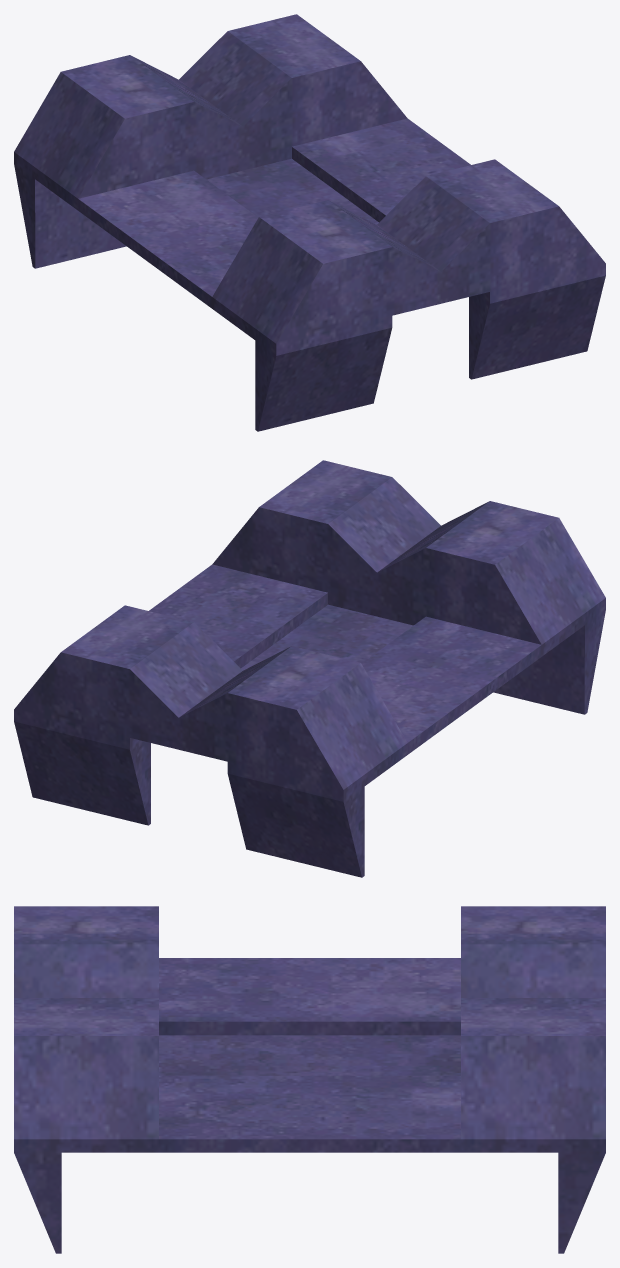
File: containercrane_02.obj
3 views of the same model, one above another, from view 1: azimuth 30°, elevation 25°; view 2: azimuth 150°, elevation 25°; view 3: azimuth 270°, elevation 25° (orthographic). The views are drawn at different scales.
Visible parts, largest first — view 1: ContainerCrane_02; view 2: ContainerCrane_02; view 3: ContainerCrane_02.
Boxes of the visible parts, x1,y1,x2,y2 form: ContainerCrane_02: (14, 14, 605, 431); ContainerCrane_02: (14, 460, 605, 877); ContainerCrane_02: (14, 906, 605, 1253).
Bounding box in the file's own units: 2.7 × 1.33 × 3.72.
1 material, 1 textured.
